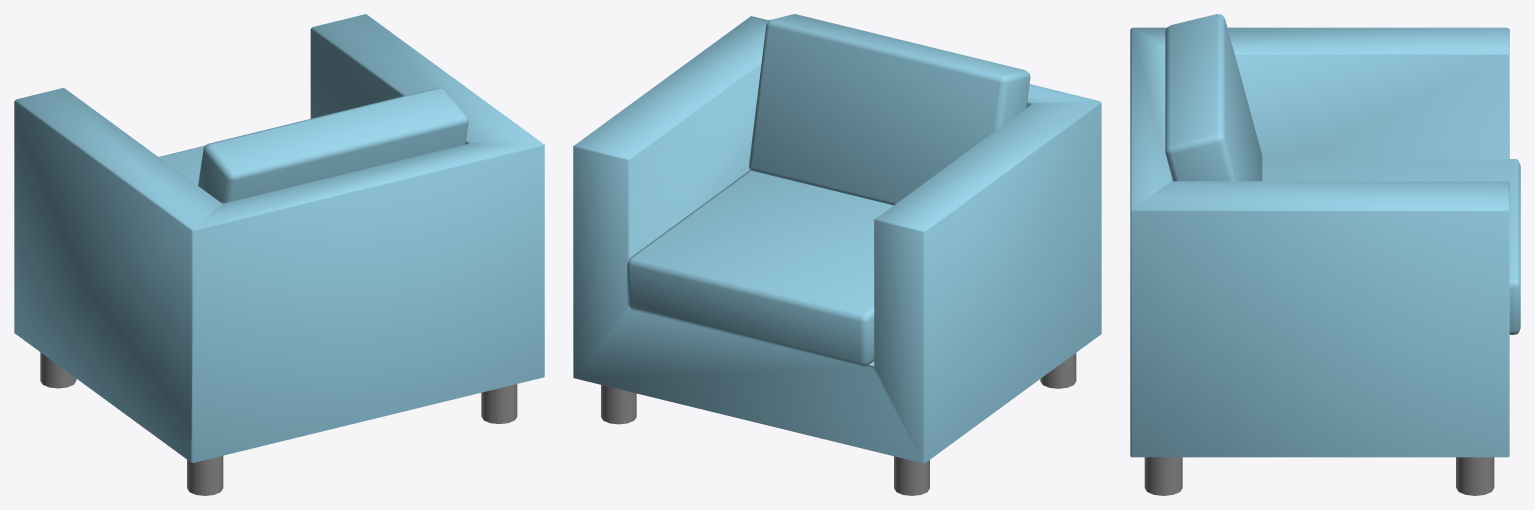
File: FURNITURE_chair_03.FBX
The picture shows the model from 3 angles, left to right: view 1: azimuth 30°, elevation 25°; view 2: azimuth 150°, elevation 25°; view 3: azimuth 270°, elevation 25°; orthographic projection. The views are drawn at different scales.
Parts seen in each view (by area): view 1: FURNITURE_chair_03; view 2: FURNITURE_chair_03; view 3: FURNITURE_chair_03.
Boxes of the visible parts, box(x1,y1,x2,y2) form: FURNITURE_chair_03: box(14, 14, 544, 495); FURNITURE_chair_03: box(573, 14, 1101, 495); FURNITURE_chair_03: box(1130, 14, 1520, 495).
Bounding box in the file's own units: 131 × 113 × 118.
